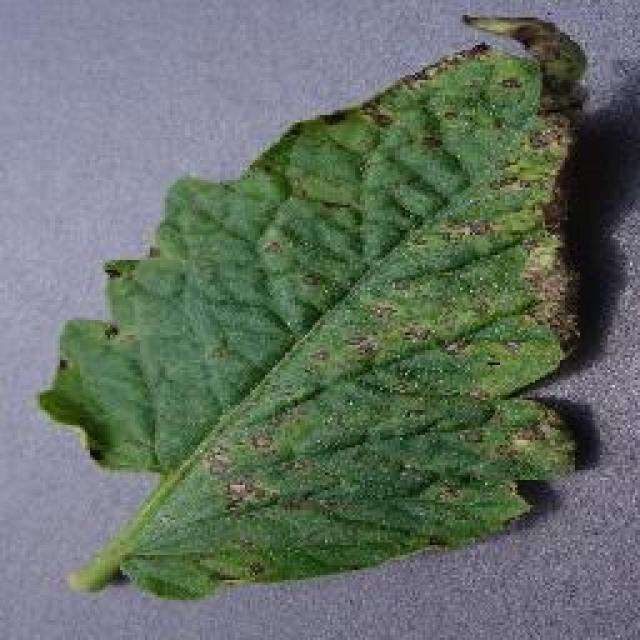Tomato target spot leaf: (39, 11, 599, 591)
